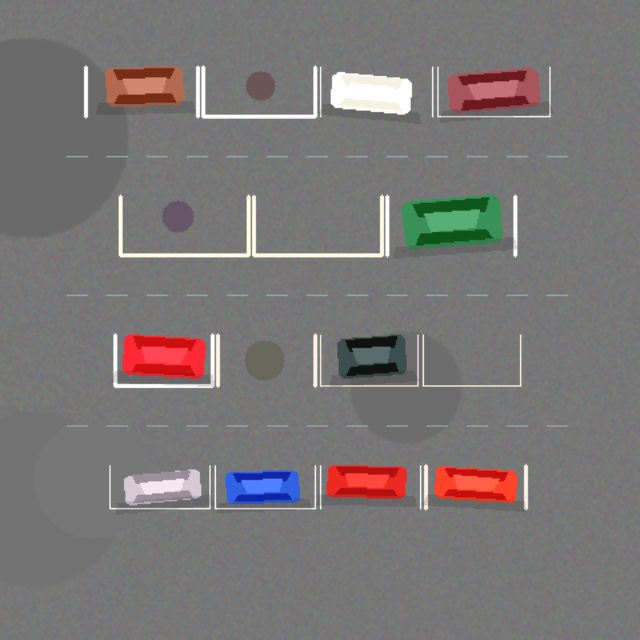space-empty: (120, 196, 248, 255), (253, 196, 381, 255), (203, 67, 315, 116), (217, 335, 315, 385), (423, 335, 520, 385)
space-occupied: (387, 196, 515, 255), (85, 67, 197, 116), (320, 67, 432, 116), (437, 67, 549, 116), (115, 335, 212, 385), (320, 335, 417, 385), (109, 465, 209, 508), (215, 465, 315, 508), (320, 465, 420, 508), (425, 465, 525, 508)
